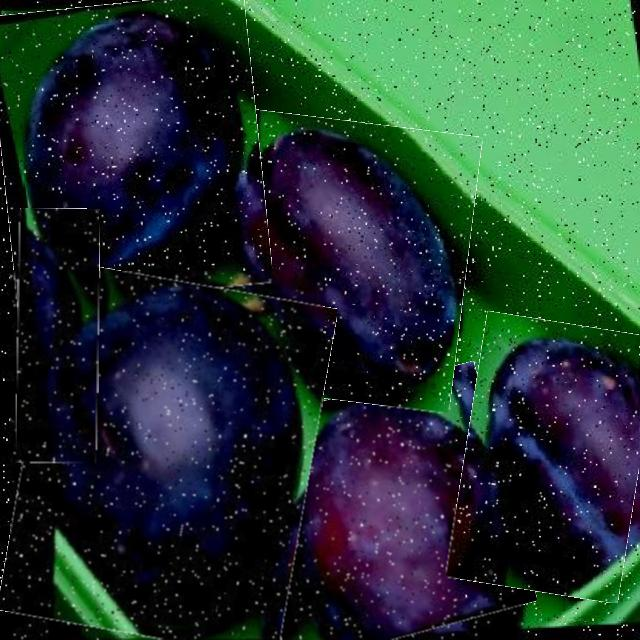plum: (10, 271, 323, 640), (197, 113, 475, 406), (0, 0, 265, 301), (239, 375, 523, 640), (456, 317, 640, 597), (17, 209, 99, 463)
